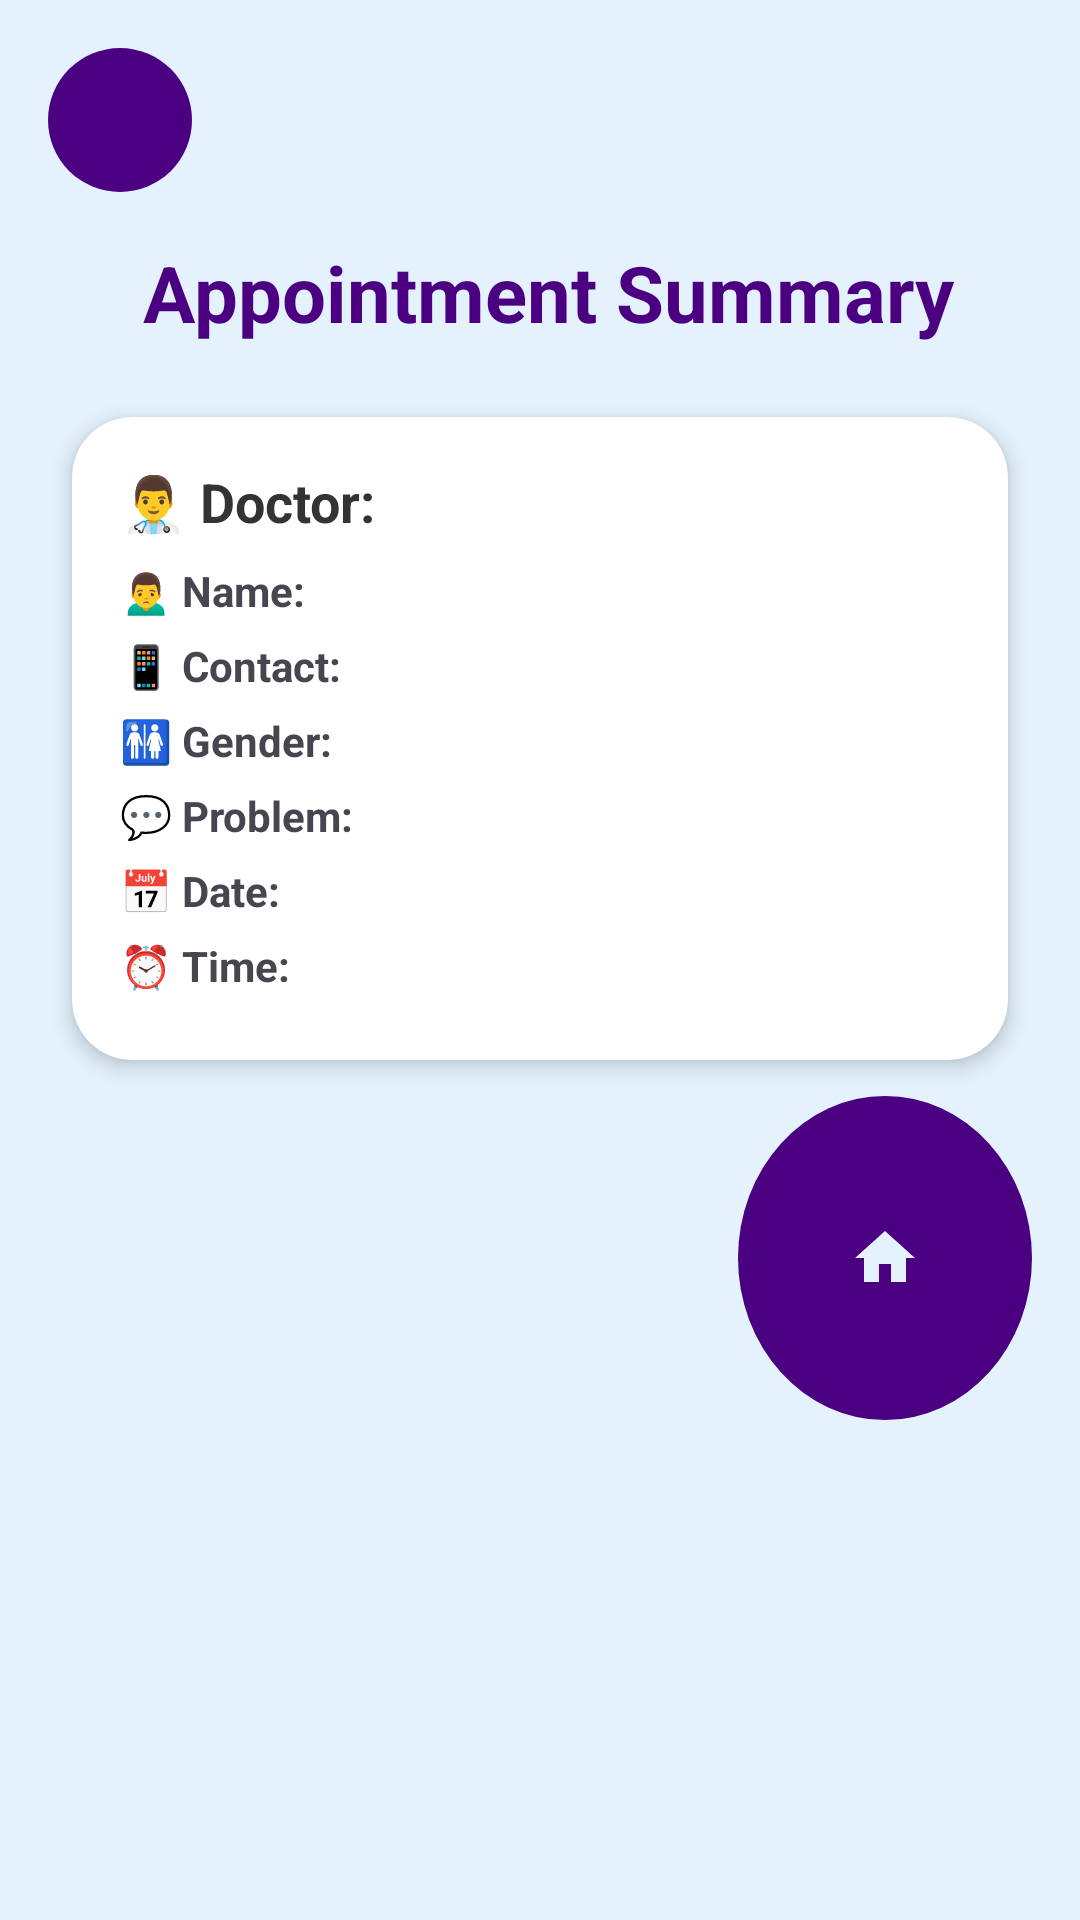

Screen size 1080x1920. Icon name, then its box in pixels as (x1, y1, x2, y2):
Home: (738, 1096, 1032, 1420)
